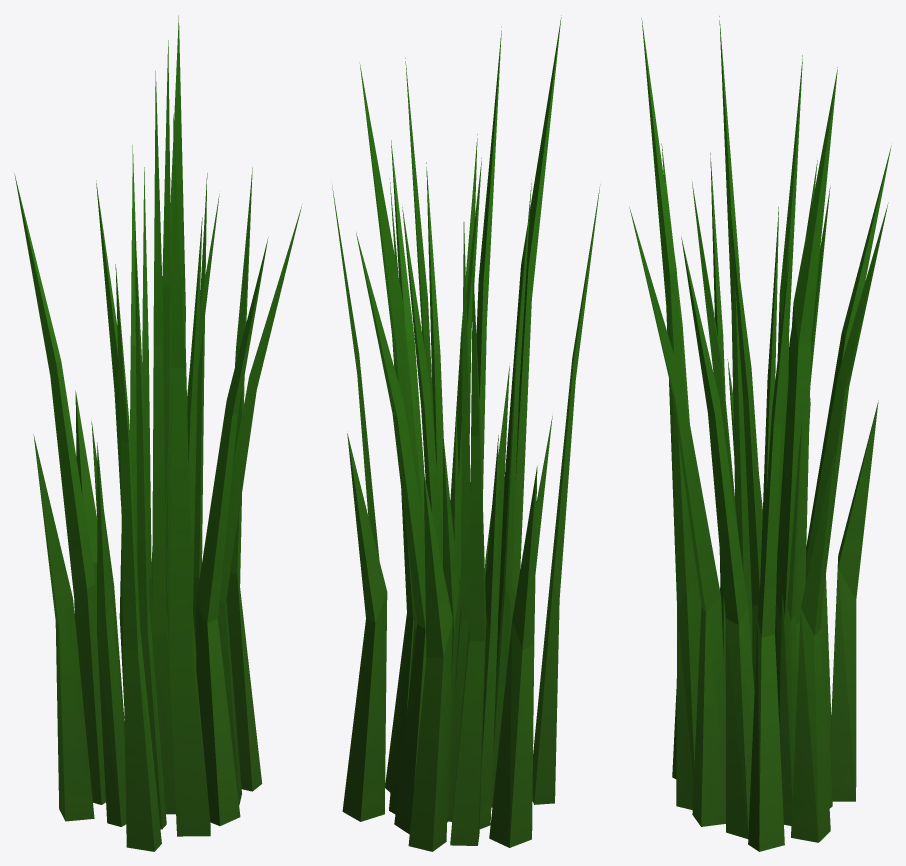
File: tallgrass_a.glb
3 renders of one model, left to right at view 1: azimuth 30°, elevation 25°; view 2: azimuth 150°, elevation 25°; view 3: azimuth 270°, elevation 25°, orthographic.
Visible parts, largest first — view 1: GrassHigh_A_4; view 2: GrassHigh_A_4; view 3: GrassHigh_A_4.
Part boxes in pixels (<box>): GrassHigh_A_4: <box>14,15,301,851</box>; GrassHigh_A_4: <box>332,15,600,851</box>; GrassHigh_A_4: <box>629,16,891,851</box>.
Bounding box in the file's own units: 0.2745 × 0.95 × 0.292.
1 material, 1 textured.
